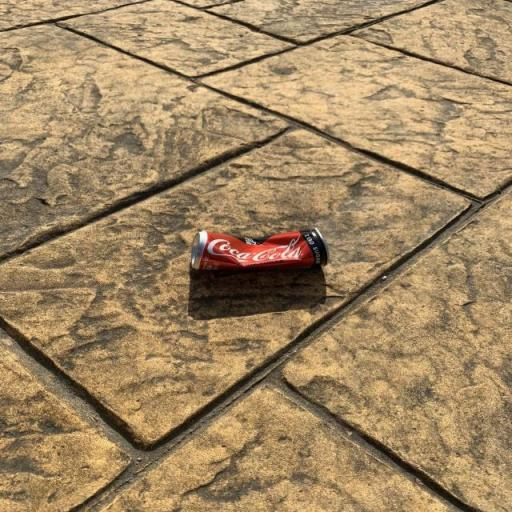metal: (171, 200, 356, 297)
